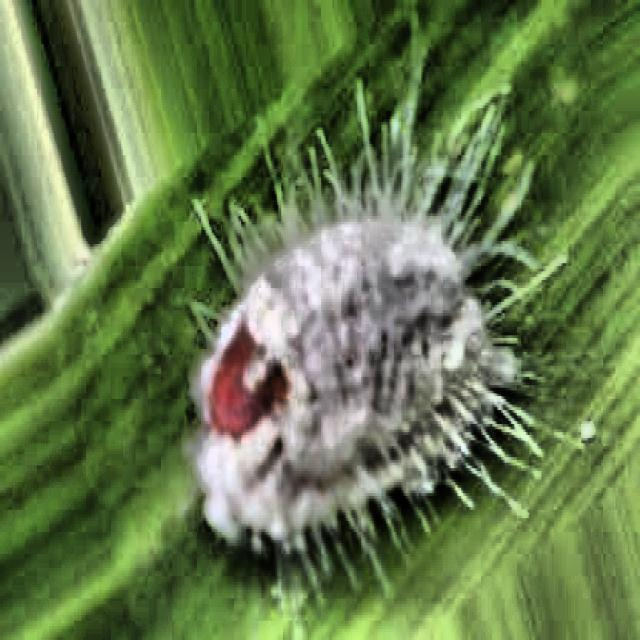Mealy-bug: (160, 44, 540, 572)
